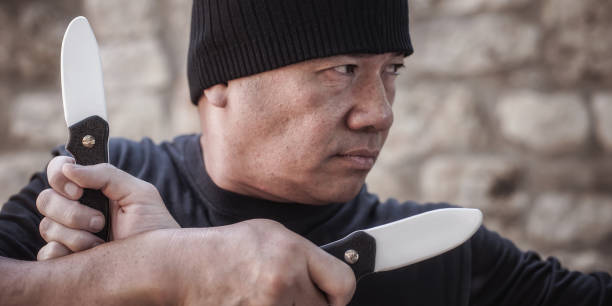knife: (314, 208, 483, 279), (59, 15, 111, 166)
